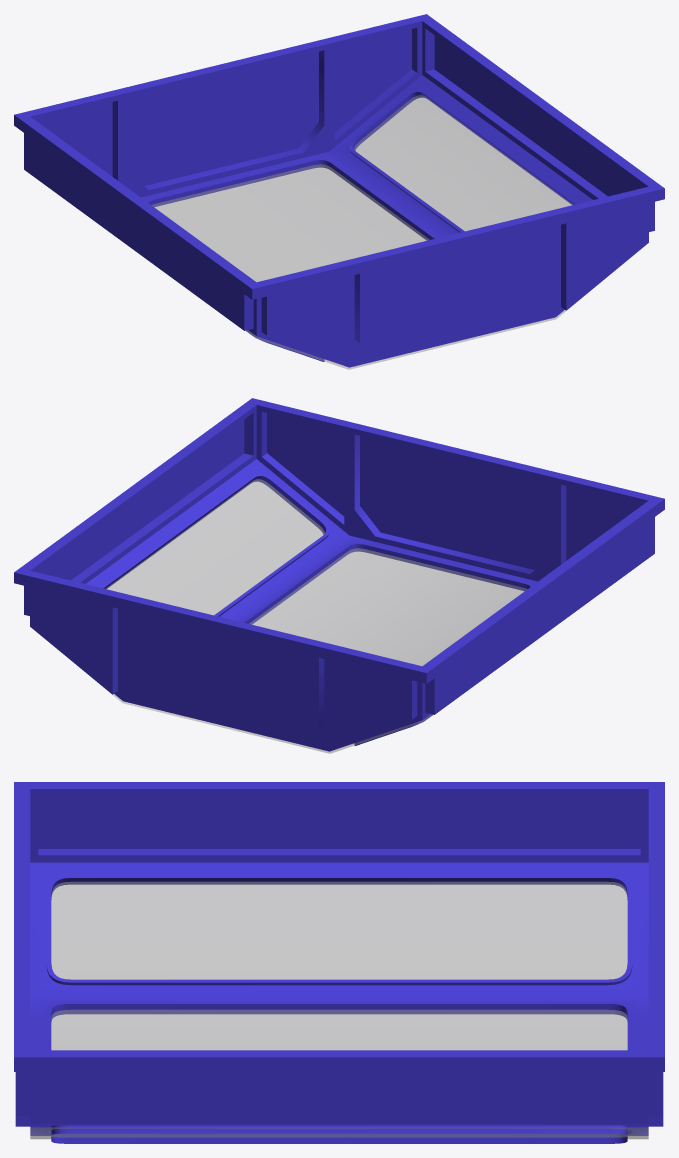
The model's file is Ceiling_A_4x4m_B.FBX.
3 renders of one model, top to bottom at view 1: azimuth 30°, elevation 25°; view 2: azimuth 150°, elevation 25°; view 3: azimuth 270°, elevation 25°, orthographic. The views are drawn at different scales.
Parts seen in each view (by area): view 1: Ceiling_A_4x4m_B; view 2: Ceiling_A_4x4m_B; view 3: Ceiling_A_4x4m_B.
Boxes of the visible parts, left/top/right/bottom form: Ceiling_A_4x4m_B: left=14, top=14, right=664, bottom=369; Ceiling_A_4x4m_B: left=14, top=398, right=664, bottom=753; Ceiling_A_4x4m_B: left=14, top=782, right=664, bottom=1143.
Size of the model in its own units: 400 by 105 by 400.
